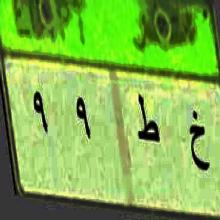9: (74, 90, 94, 150), (32, 85, 49, 143)
Taa: (134, 88, 162, 153)
khaa: (184, 107, 216, 180)
